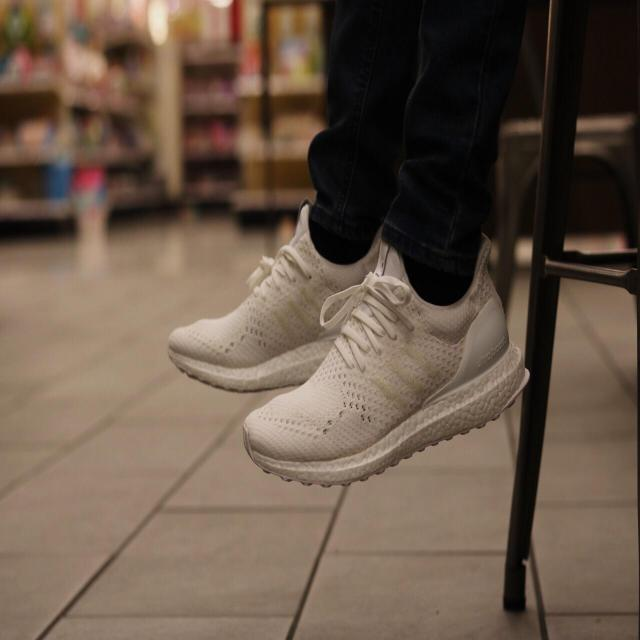shoe: (240, 266, 518, 484), (166, 202, 336, 384)
